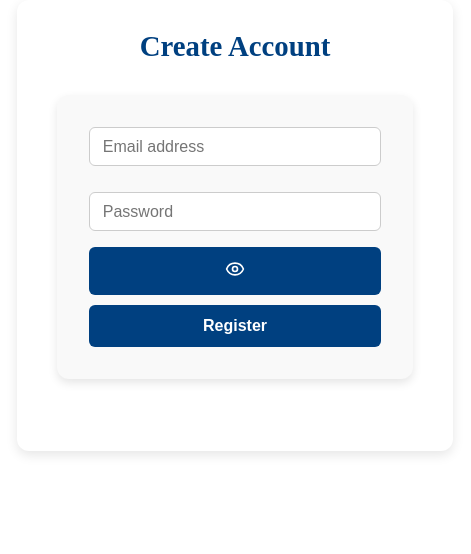
Scenario: Register Component › validates password rules
This screenshot has width=471, height=554.
Step 1. Type "123" into the password field with placeholder "Password" → (235, 212), box x1=89 y1=192 x2=381 y2=231
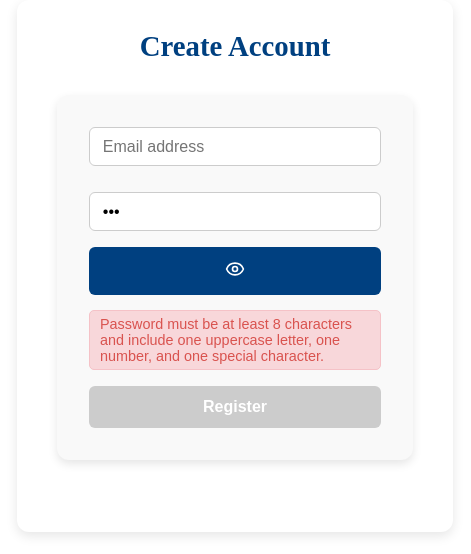
Now the text "Password must be at least 8 characters" is shown, box x1=100 y1=316 x2=352 y2=364
